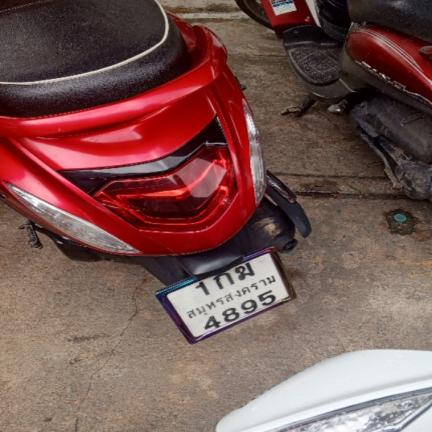1: (192, 279, 214, 298)
4: (198, 314, 224, 332)
5: (253, 288, 281, 308)
8: (217, 305, 243, 325)
9: (235, 296, 263, 316)
A01: (210, 270, 238, 291)
A06: (229, 261, 258, 284)
SKM: (180, 272, 280, 323)
